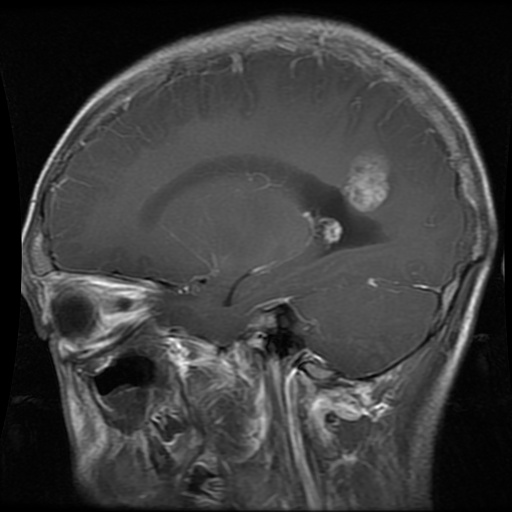glioma: (343, 142, 393, 209)
